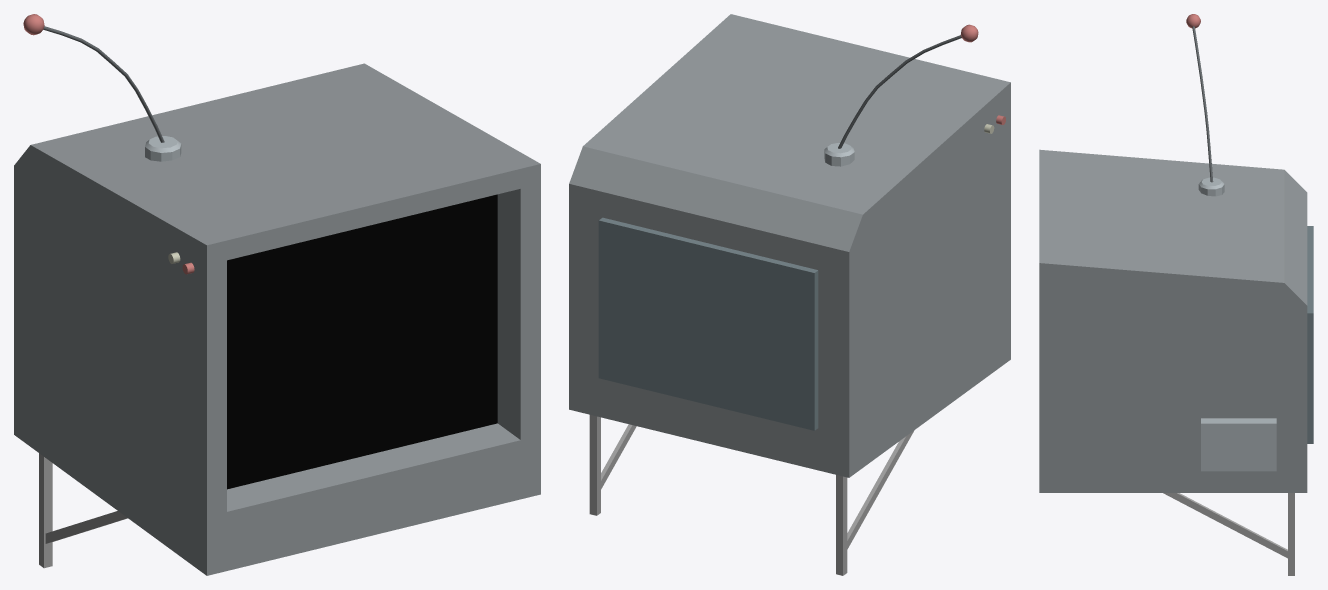
Rendered from Package Tube Wall .fbx.
The picture shows the model from 3 angles, left to right: view 1: azimuth 30°, elevation 25°; view 2: azimuth 150°, elevation 25°; view 3: azimuth 270°, elevation 25°; orthographic projection. The views are drawn at different scales.
Visible parts, largest first — view 1: pCube113; view 2: pCube113; view 3: pCube113.
Part boxes in pixels (x1=…): pCube113: x1=14, y1=14, x2=540, y2=575; pCube113: x1=569, y1=14, x2=1010, y2=575; pCube113: x1=1039, y1=14, x2=1313, y2=575.
Bounding box in the file's own units: 1.26 × 1.78 × 1.02.
